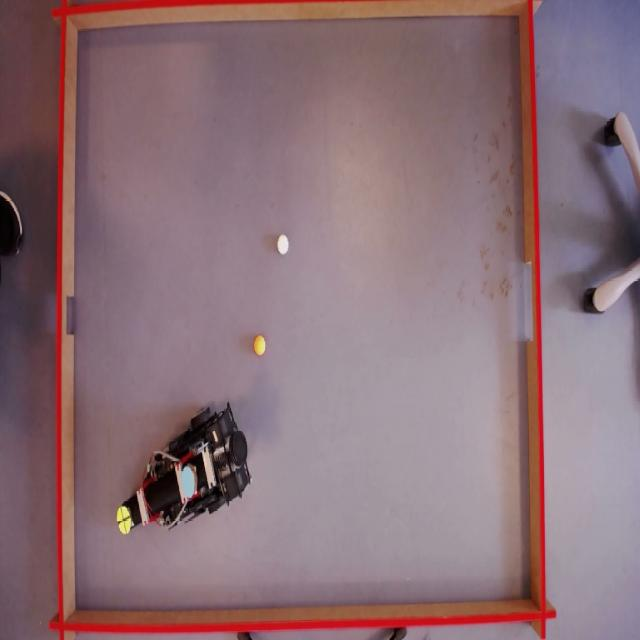orange: (254, 335, 268, 357)
robot: (110, 406, 254, 536)
robot-front: (116, 505, 132, 535)
robot-rear: (181, 466, 196, 500)
white: (276, 234, 288, 255)
